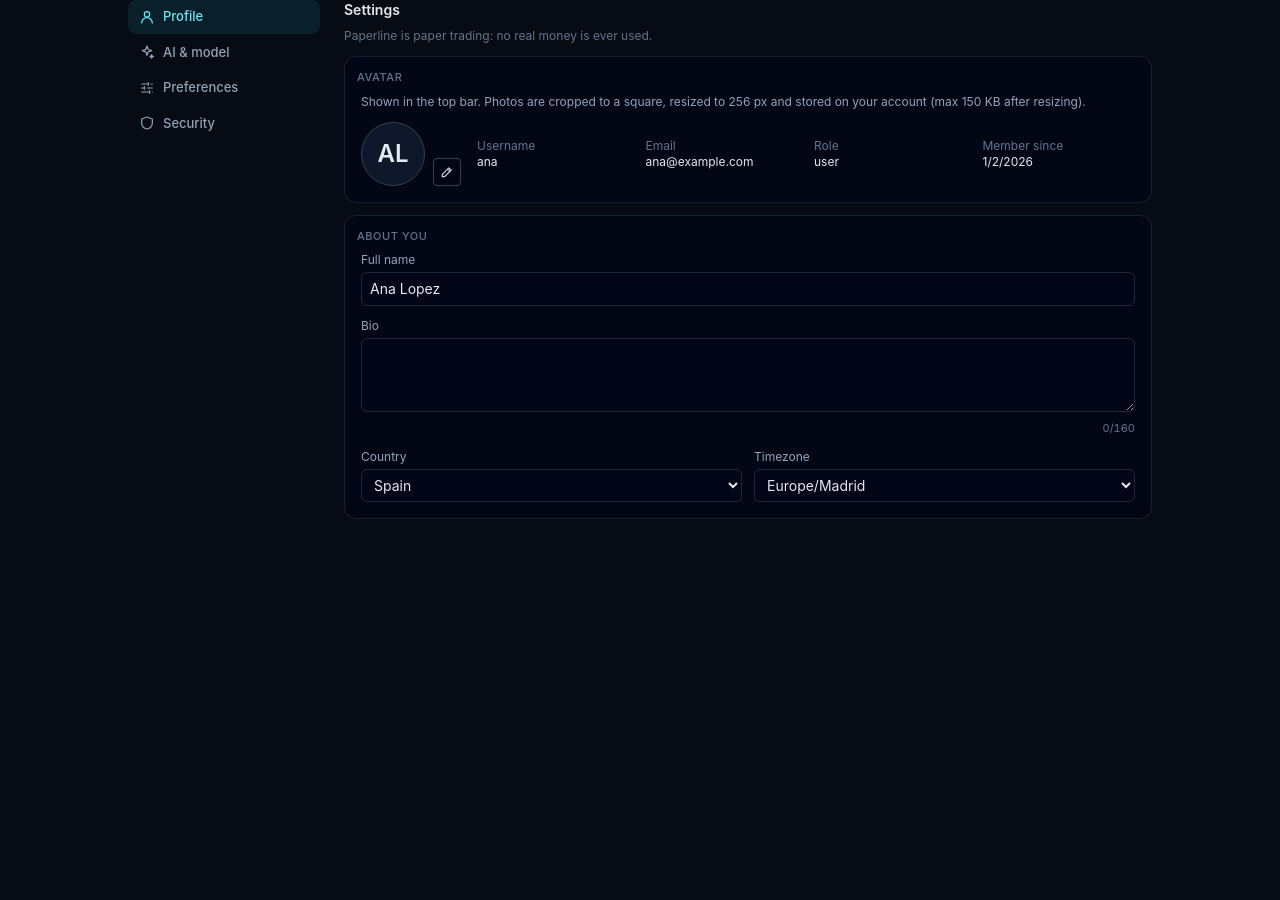
Scenario: avatar: Esc and click outside close the popover and return focus to Edit photo
Click the button named "Edit photo" at coordinates (447, 172), box [433,158,461,186]
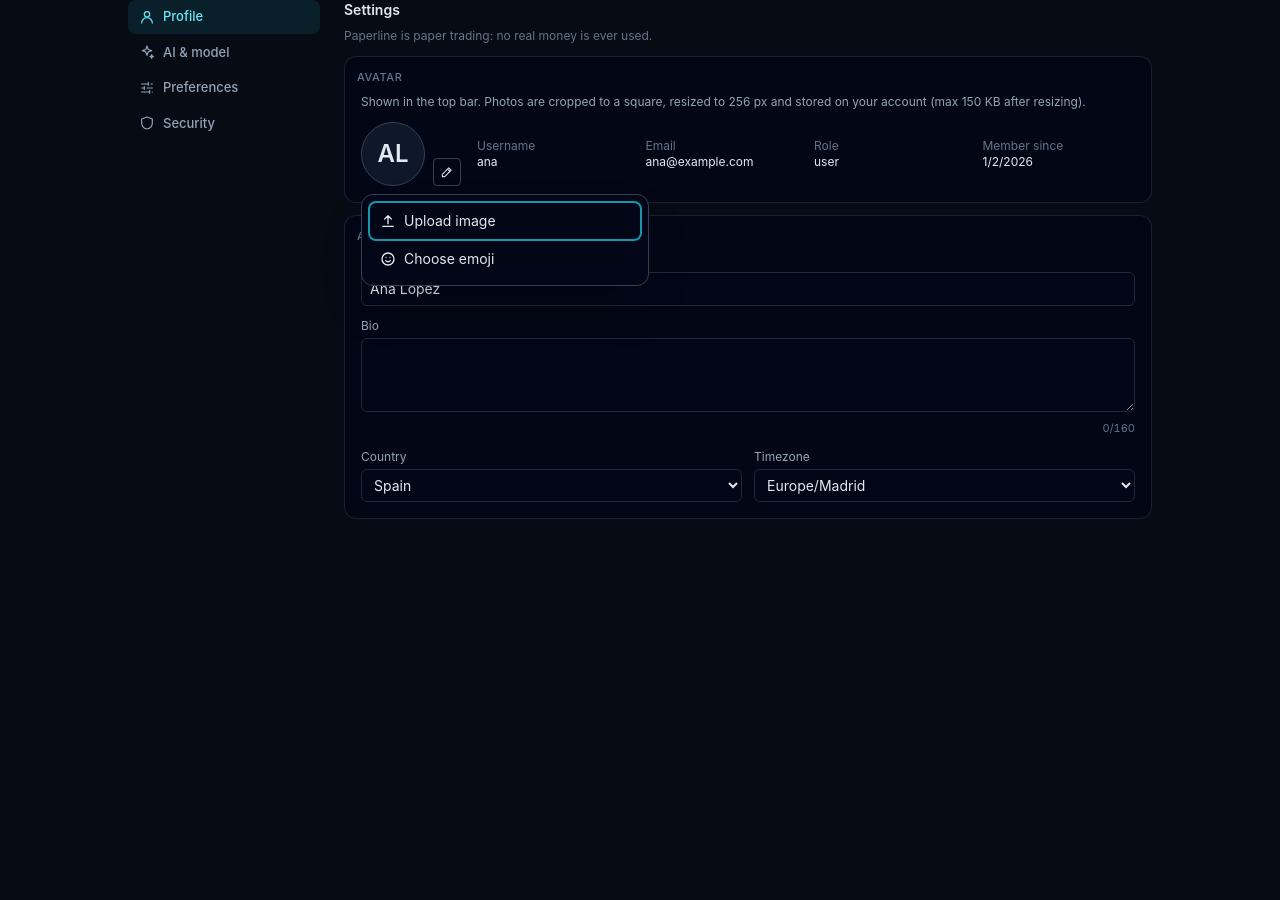
Click the button "Choose emoji" at coordinates (449, 258), box [370,240,640,276]
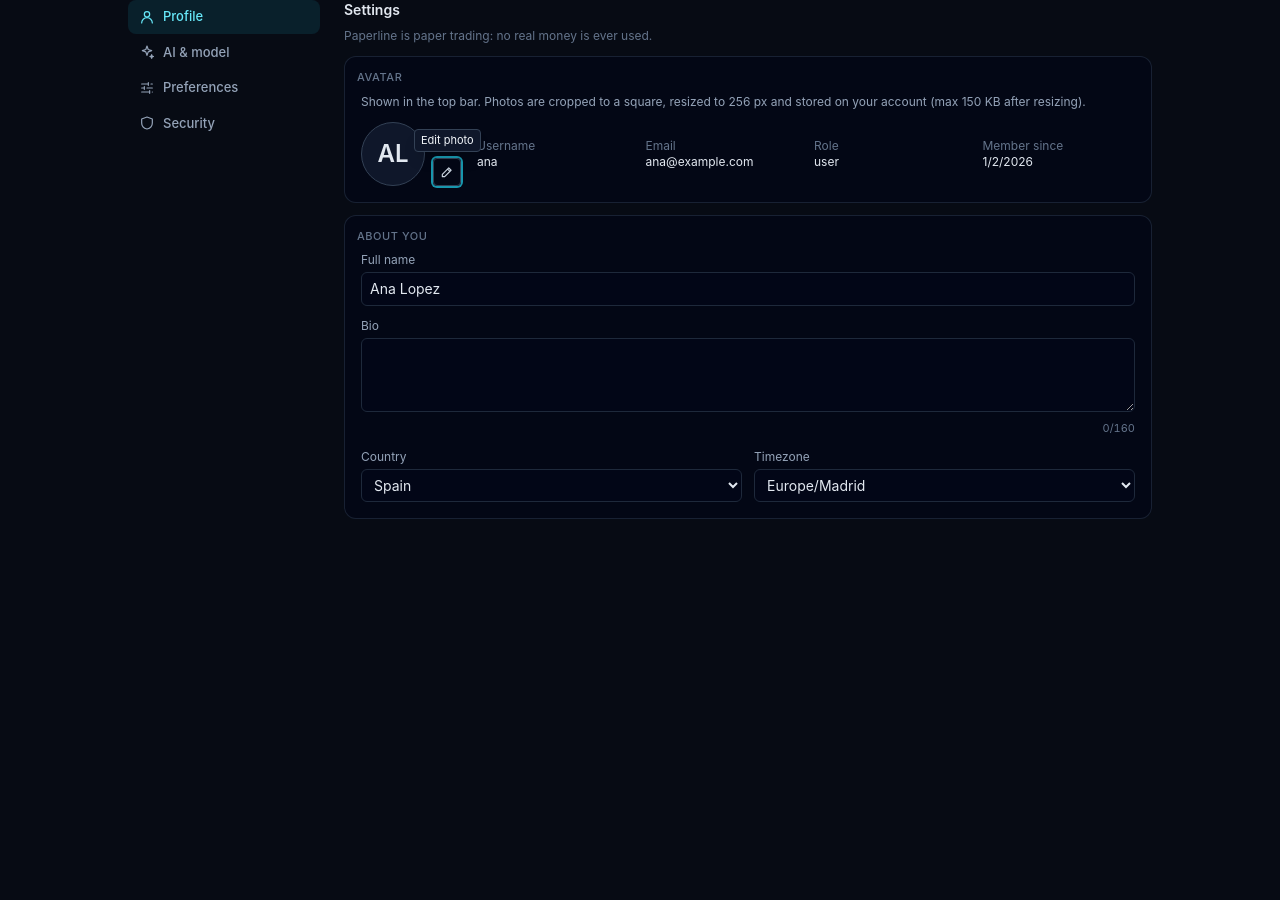
Result: the dialog is gone
Click the button named "Edit photo" at coordinates (447, 172), box [433,158,461,186]
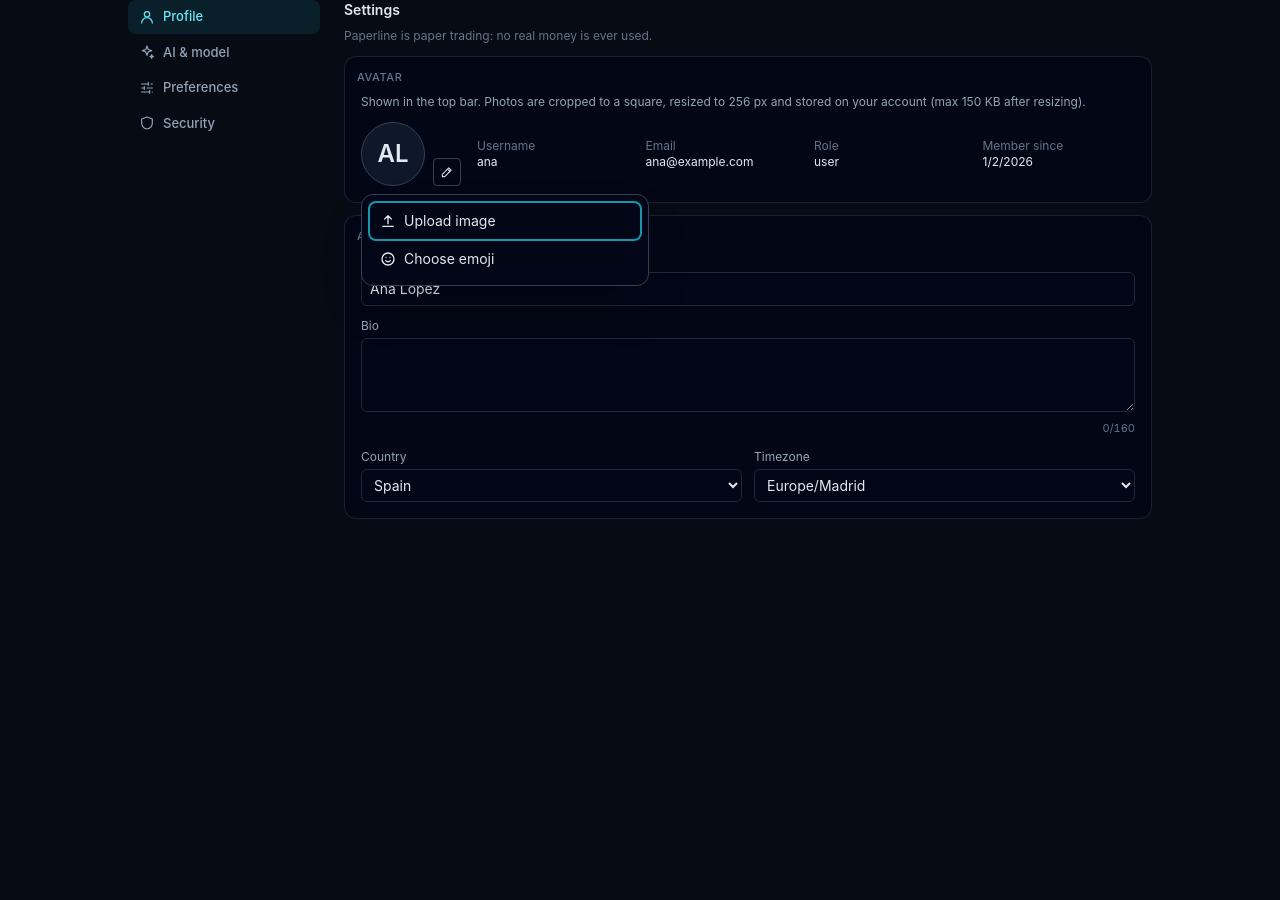
Result: the dialog is shown at [361,194,649,286]
Press the mouse on the element that starts with "Profile" at coordinates (640, 450), box [0,0,1279,899]
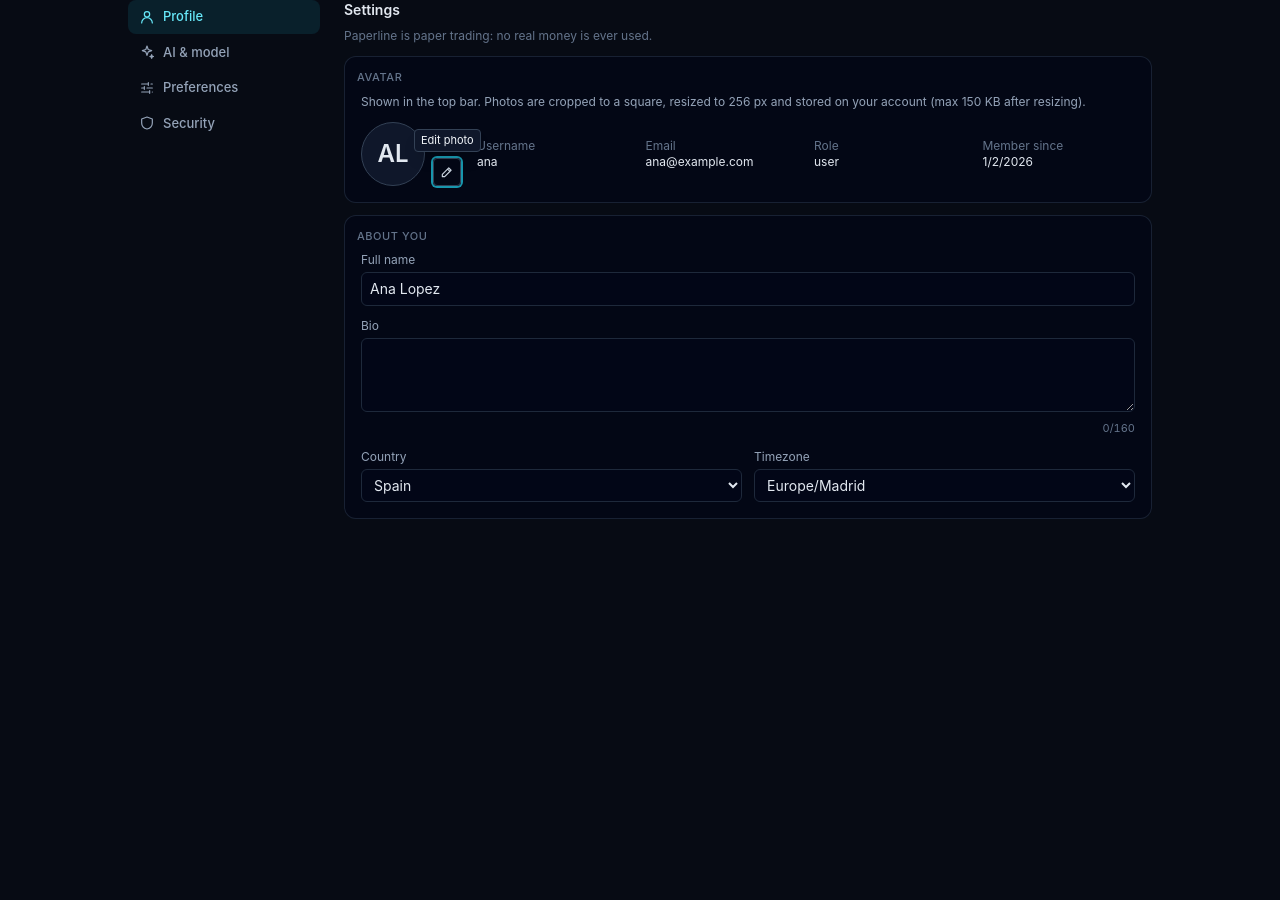
Result: the dialog is gone
